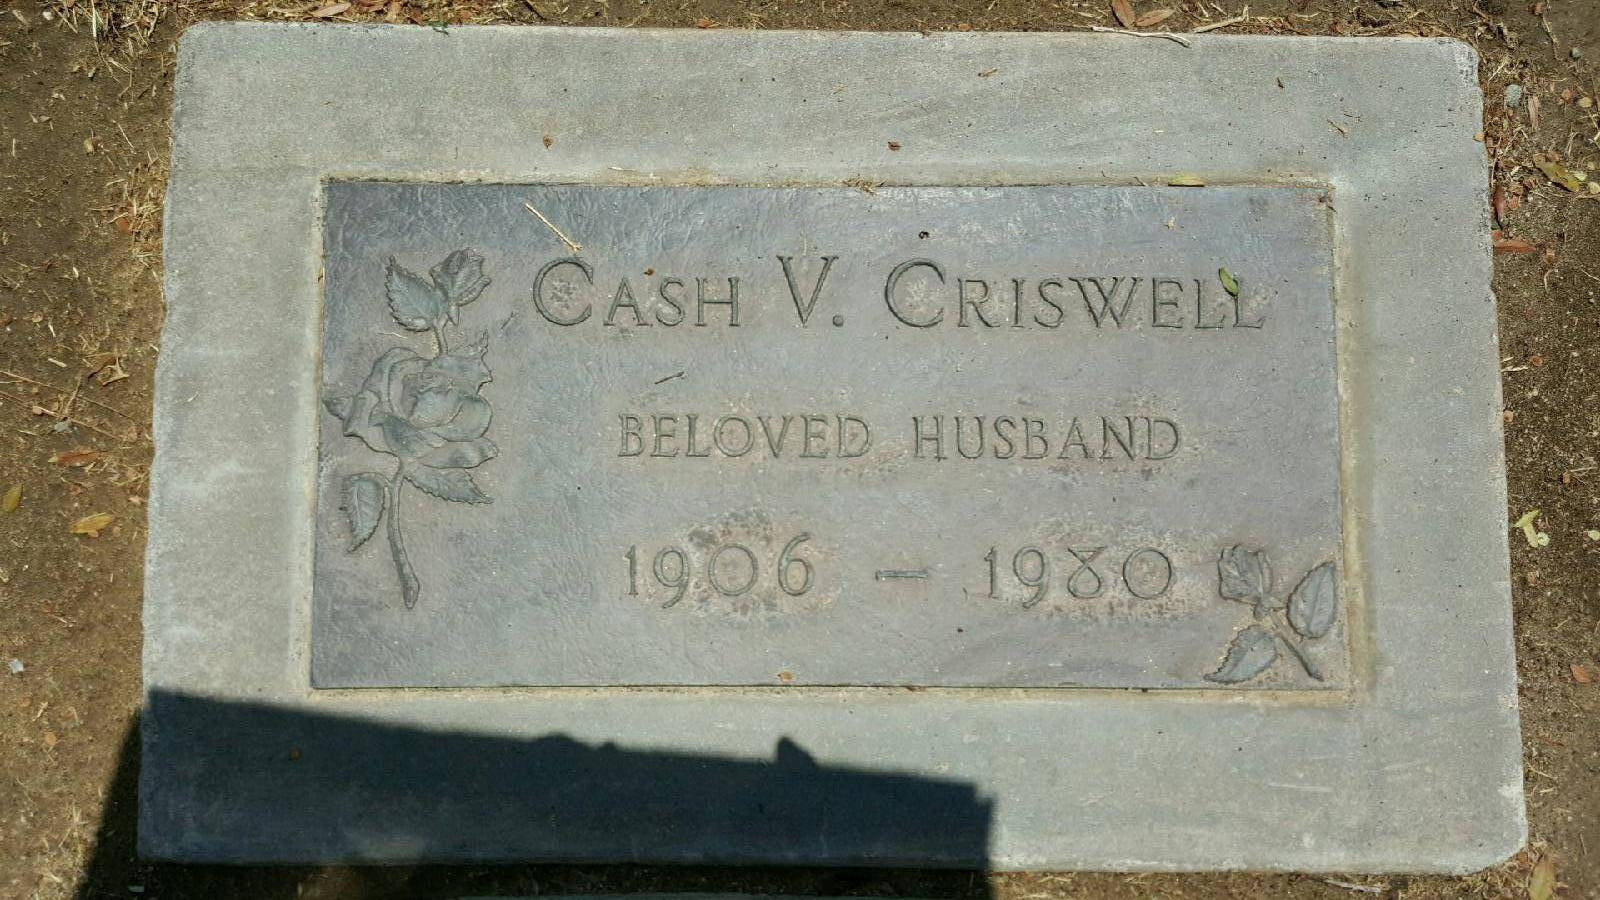flat: (147, 13, 1530, 871)
